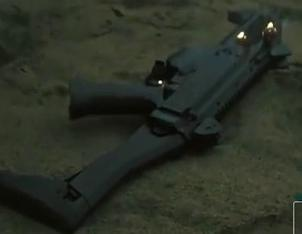gun: (1, 1, 302, 234)
